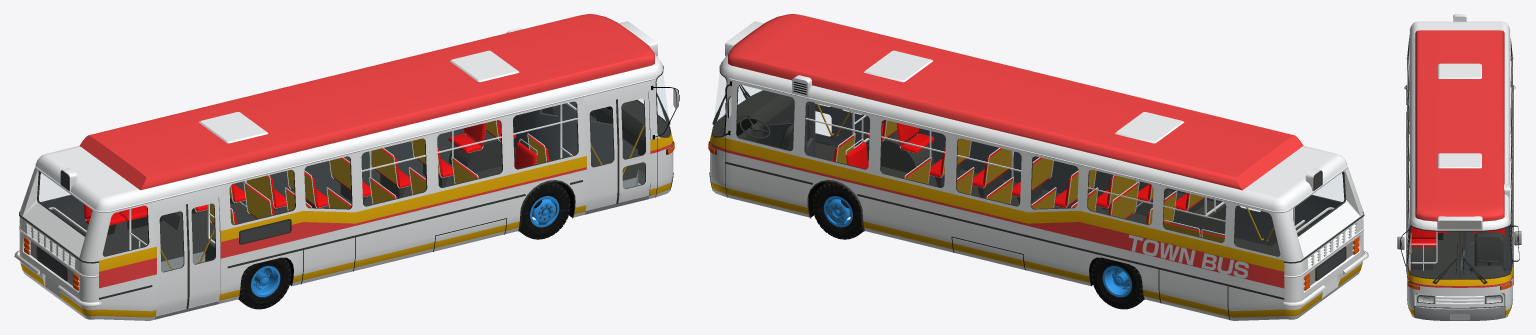
The model's file is town-bus.glb.
3 views of the same model, side by side, from view 1: azimuth 30°, elevation 25°; view 2: azimuth 150°, elevation 25°; view 3: azimuth 270°, elevation 25° (orthographic). The views are drawn at different scales.
Visible parts, largest first — view 1: Object_25, Object_34, Object_22, Object_33, Object_27, Object_35, Object_24, Object_23, Object_10, Object_32, Object_12, Object_26 (+4 smaller); view 2: Object_25, Object_34, Object_33, Object_22, Object_27, Object_35, Object_23, Object_24, Object_11, Object_32, Object_14, Object_26 (+4 smaller); view 3: Object_34, Object_25, Object_22, Object_23, Object_17, Object_33, Object_26, Object_27, Object_24, Object_32, Object_5, Object_9 (+6 smaller).
Boxes of the visible parts, <box> form: Object_25: <box>19,28,673,320</box>; Object_34: <box>79,14,673,288</box>; Object_22: <box>40,89,676,272</box>; Object_33: <box>20,133,672,317</box>; Object_27: <box>40,92,650,234</box>; Object_35: <box>160,120,644,269</box>; Object_24: <box>84,120,550,225</box>; Object_23: <box>19,66,679,308</box>; Object_10: <box>519,181,570,239</box>; Object_32: <box>14,78,654,306</box>; Object_12: <box>238,257,291,309</box>; Object_26: <box>37,21,657,274</box>; Object_25: <box>710,50,1363,320</box>; Object_34: <box>710,14,1303,288</box>; Object_33: <box>710,133,1362,317</box>; Object_22: <box>709,86,1342,256</box>; Object_27: <box>736,101,1342,246</box>; Object_35: <box>816,103,1274,242</box>; Object_23: <box>711,66,1364,299</box>; Object_24: <box>832,120,1224,237</box>; Object_11: <box>812,181,863,239</box>; Object_32: <box>728,78,1368,306</box>; Object_14: <box>1091,257,1144,309</box>; Object_26: <box>725,21,1345,274</box>; Object_34: <box>1407,30,1512,287</box>; Object_25: <box>1407,14,1512,317</box>; Object_22: <box>1407,35,1520,303</box>; Object_23: <box>1400,58,1518,285</box>; Object_17: <box>1408,158,1511,320</box>; Object_33: <box>1407,267,1512,315</box>; Object_26: <box>1409,61,1511,295</box>; Object_27: <box>1408,47,1511,270</box>; Object_24: <box>1410,226,1504,246</box>; Object_32: <box>1404,28,1515,224</box>; Object_5: <box>1438,221,1481,229</box>; Object_9: <box>1398,236,1496,304</box>.
Size of the model in its own units: 131 by 32.36 by 31.86.
Materials: 7 (7 with a texture image).
